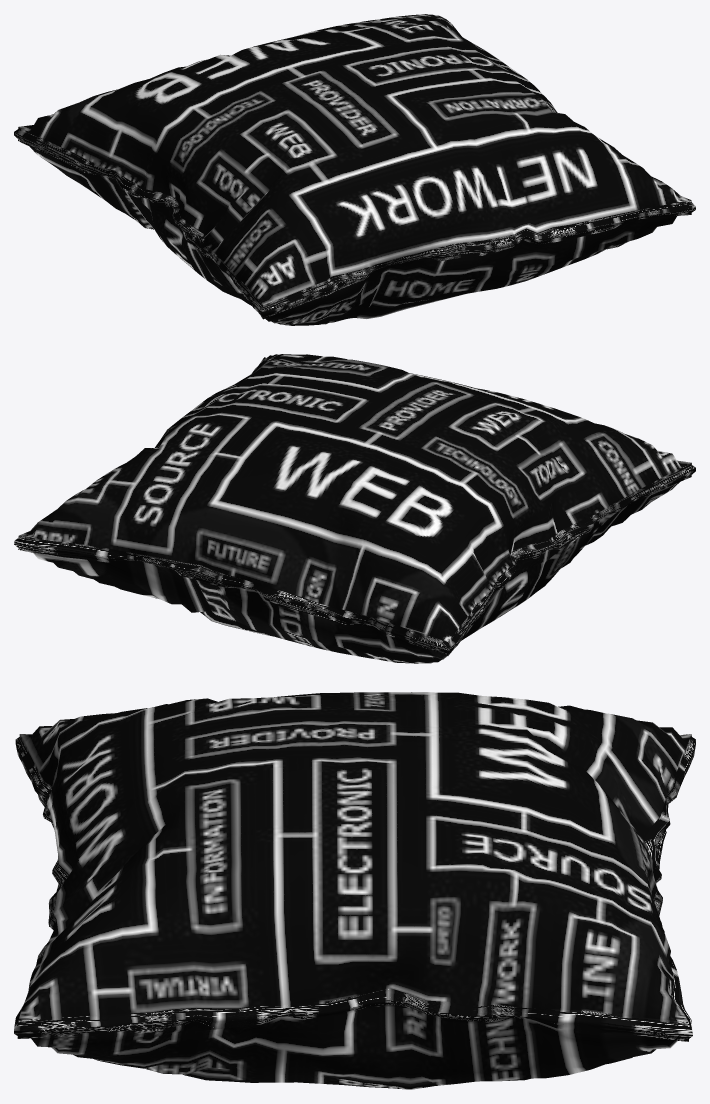
3 views of the same model, one above another, from view 1: azimuth 30°, elevation 25°; view 2: azimuth 150°, elevation 25°; view 3: azimuth 270°, elevation 25° (orthographic). The views are drawn at different scales.
Parts seen in each view (by area): view 1: Cube; view 2: Cube; view 3: Cube.
Boxes of the visible parts, x1,y1,x2,y2 form: Cube: (14,14,695,325); Cube: (14,354,695,663); Cube: (14,692,695,1089).
Size of the model in its own units: 1.95 by 0.8063 by 1.92.
1 material, 1 textured.
